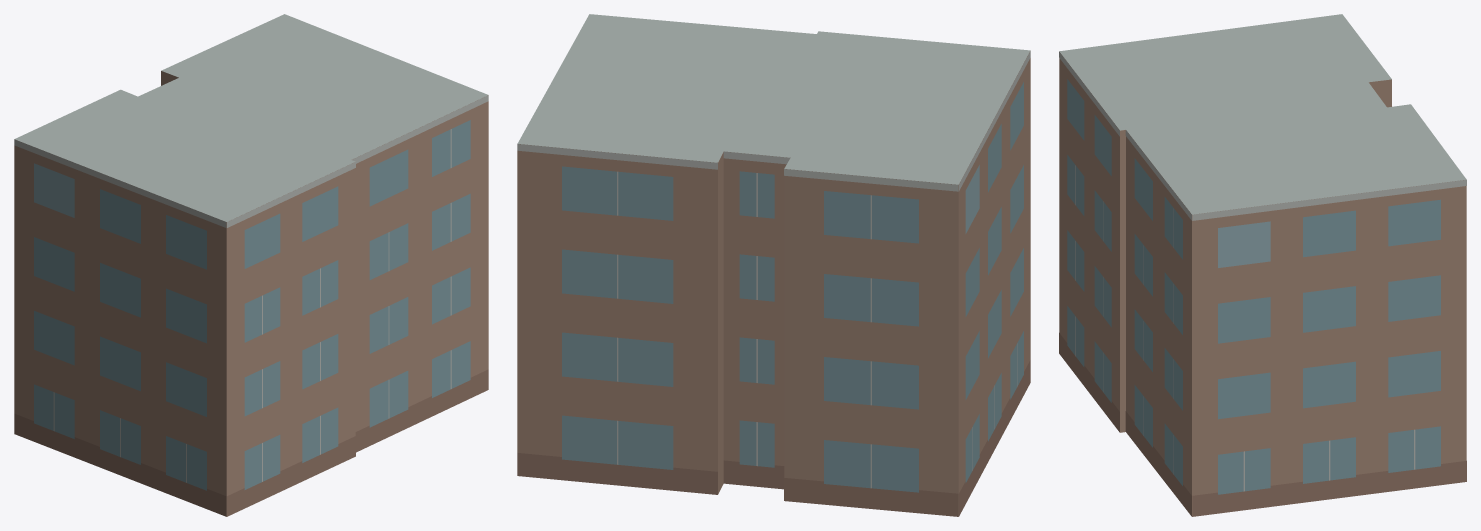
Rendered from survey-upis-32727507.glb.
3 renders of one model, left to right at view 1: azimuth 30°, elevation 25°; view 2: azimuth 150°, elevation 25°; view 3: azimuth 270°, elevation 25°, orthographic. The views are drawn at different scales.
Parts seen in each view (by area): view 1: survey-upis-32727507.tmp; view 2: survey-upis-32727507.tmp; view 3: survey-upis-32727507.tmp.
Part boxes in pixels (x1,y1,x2,y2): survey-upis-32727507.tmp: (14,14,488,516); survey-upis-32727507.tmp: (517,14,1030,516); survey-upis-32727507.tmp: (1059,14,1466,516).
Bounding box in the file's own units: 16.67 × 11.7 × 14.31.
